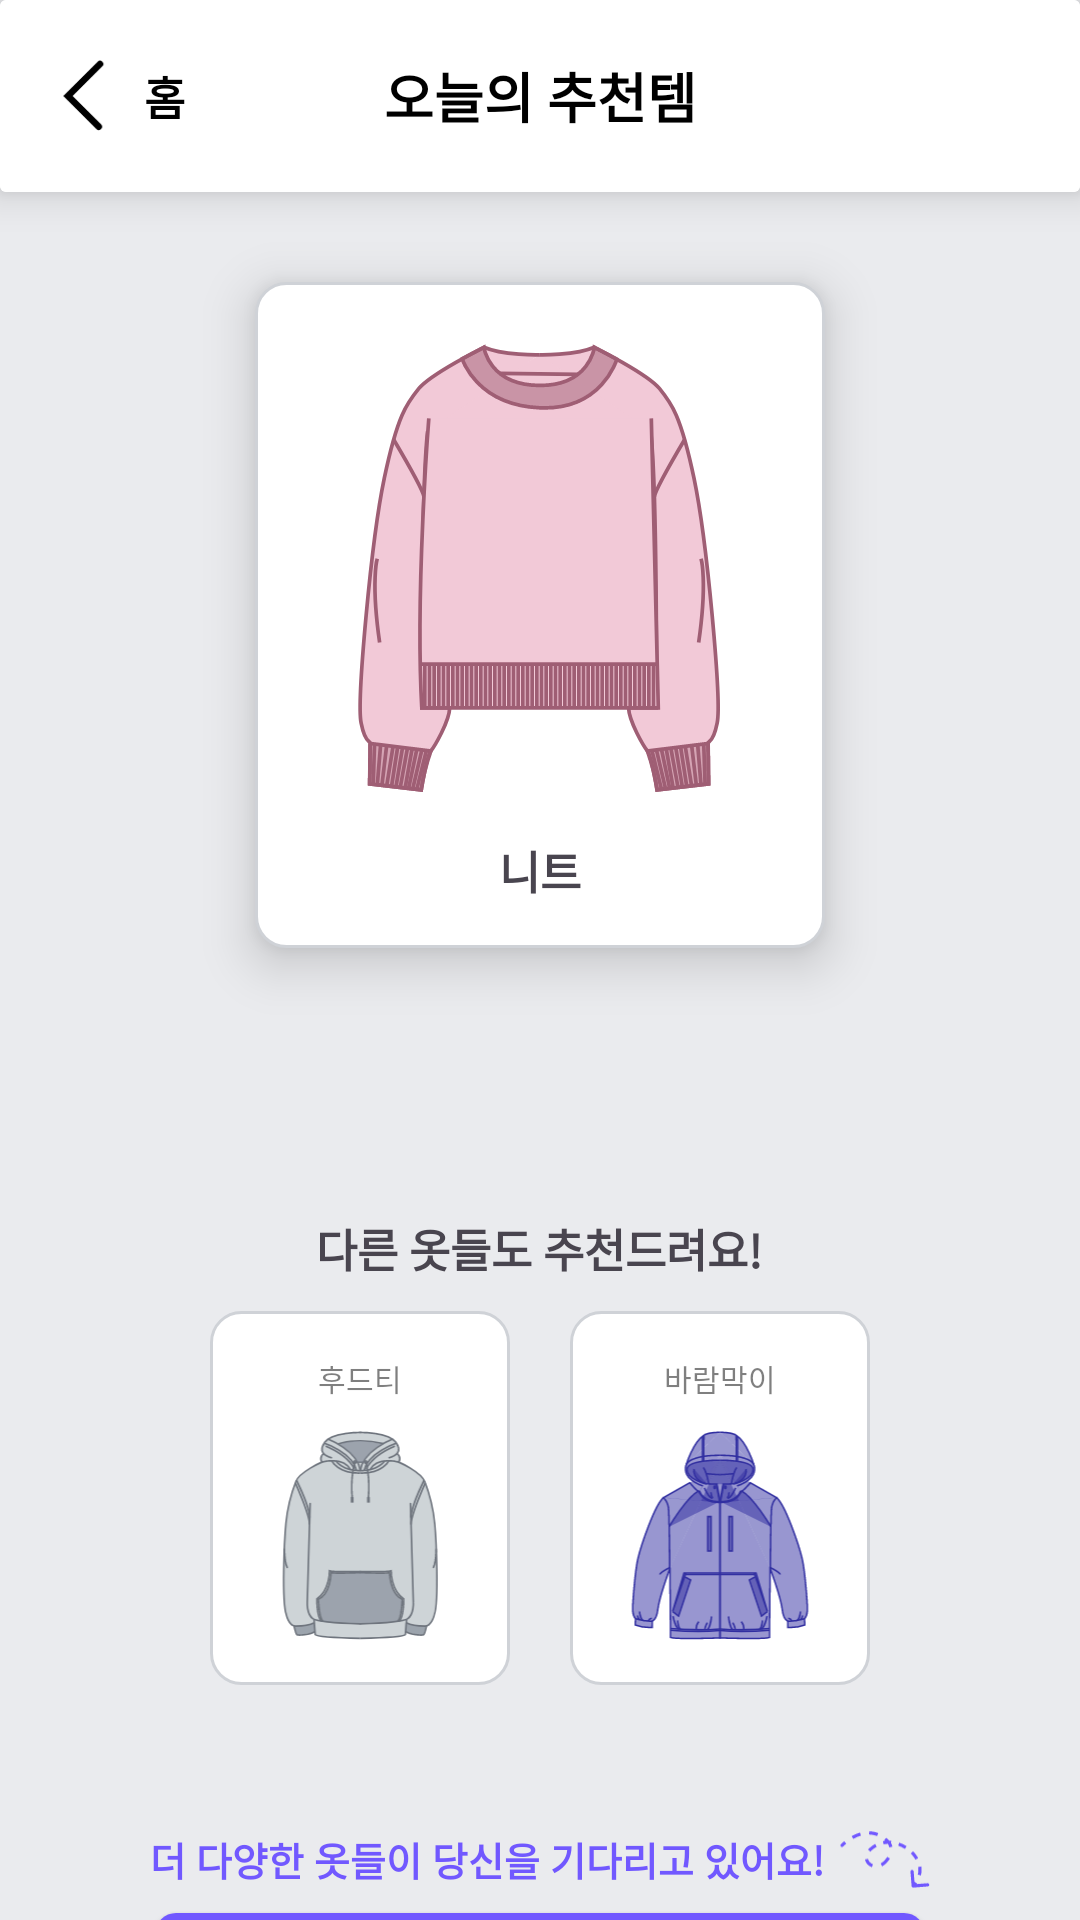

Where to tap for icons on this 1080px x 1920px app screen, as [x,y]:
back: [83,95]
today recomended arrow: [884,1859]
